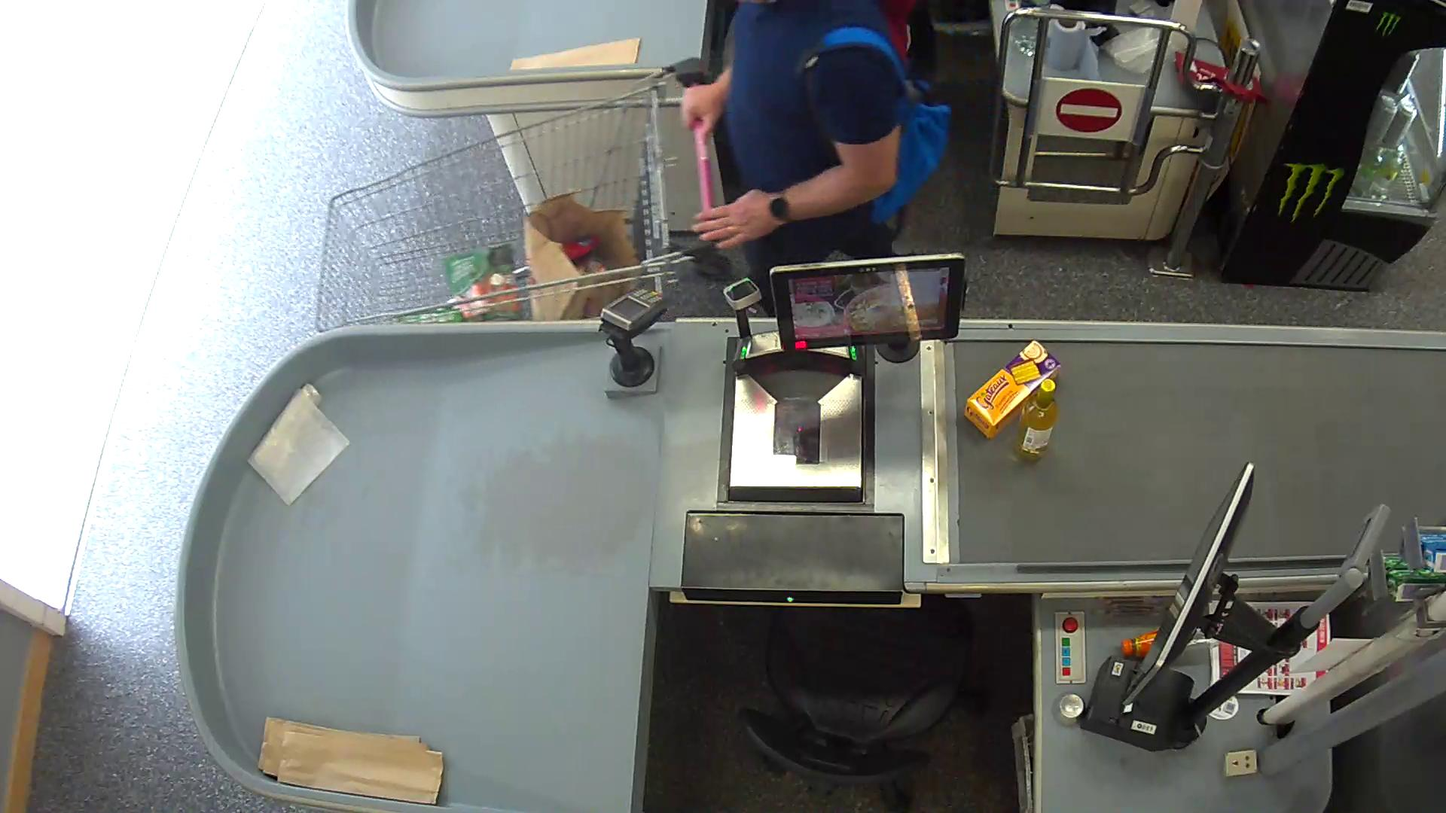backpack-or-handbag: (875, 59, 949, 235)
filled-trolly: (315, 57, 716, 324)
person: (679, 0, 904, 274)
person-with-basket-trolly-and-backpack-handbag: (313, 3, 949, 321)
vacant-checkout-counter: (592, 250, 1395, 813)
